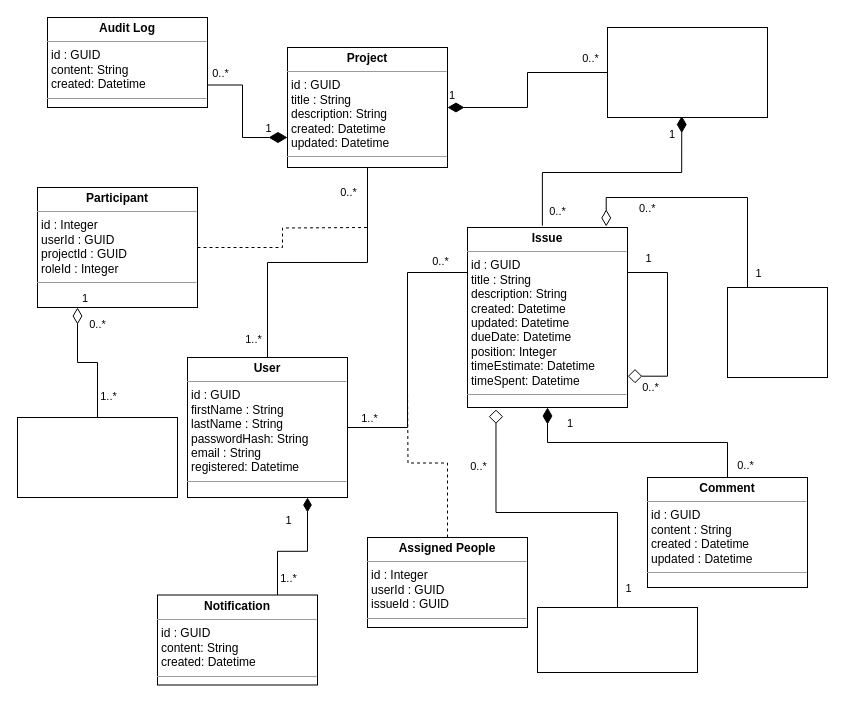
The diagram is 845 pixels wide and 703 high, and some of its shapes have lost their labels. Here are the shapes that lost their labels. From the top down, the centre of each, then its label:
At point 687,72: "Project Board id : GUID title : String position: Integer".
At point 777,332: "Priority id : Integer name : String level : Integer".
At point 97,457: "Role id : Integer name : String".
At point 617,639: "Issue Type id : Integer name: String".
